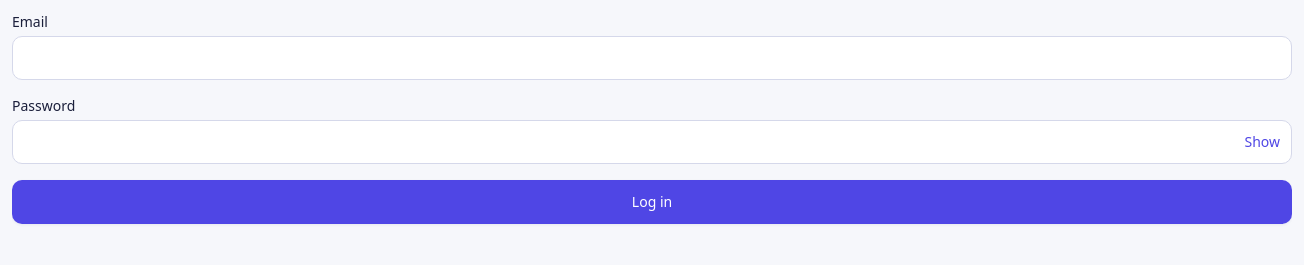
Test: LoginForm › rejects an email without a domain but accepts the password
This screenshot has width=1304, height=265.
Step 1. Type "md@example" into the field labelled "Email" → (652, 58), box [12,36,1292,80]
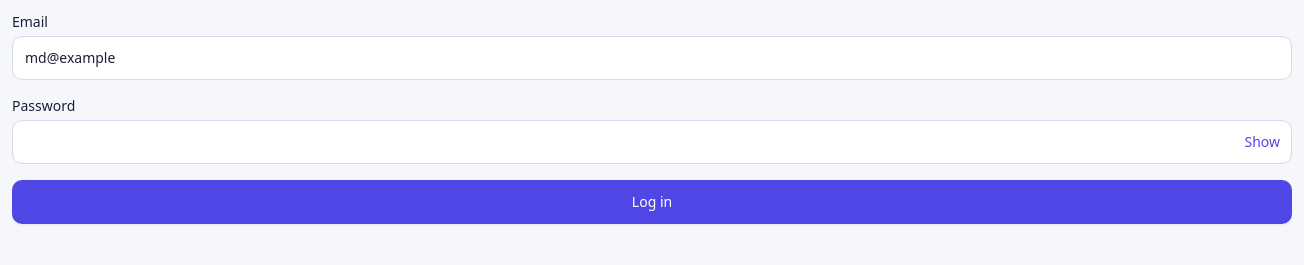
Step 2. Type "secret" into the password field labelled "Password" → (652, 142), box [12,120,1292,164]
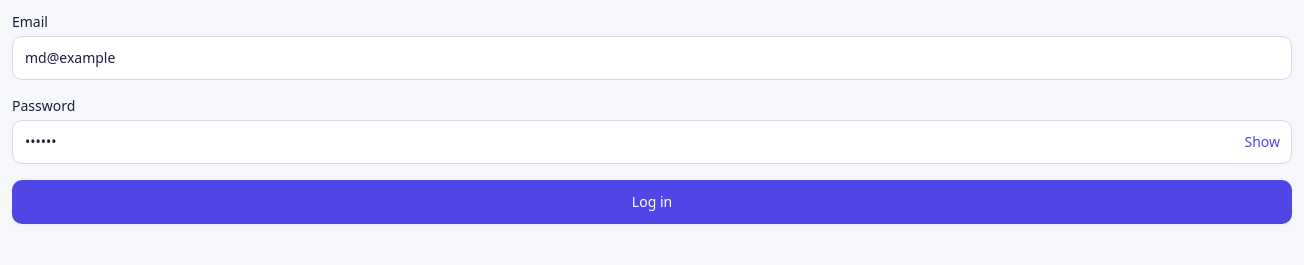
Step 3. Click the button "Log in" → click(652, 202), box [12,180,1292,224]
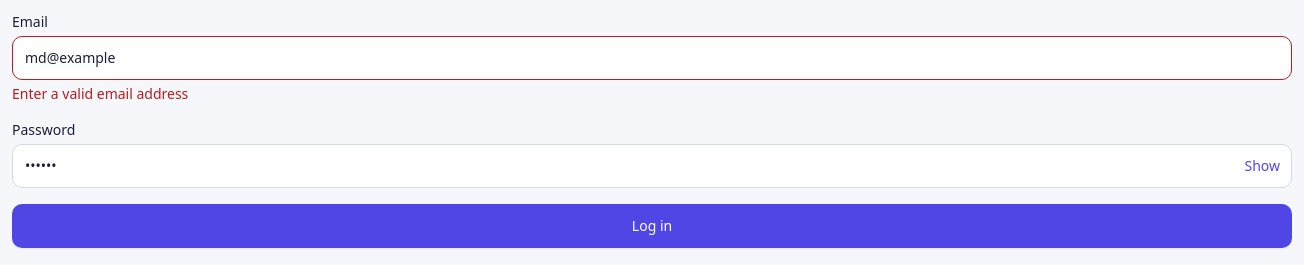
Result: the text "Enter a valid email address" is shown at [12,84,188,103]
